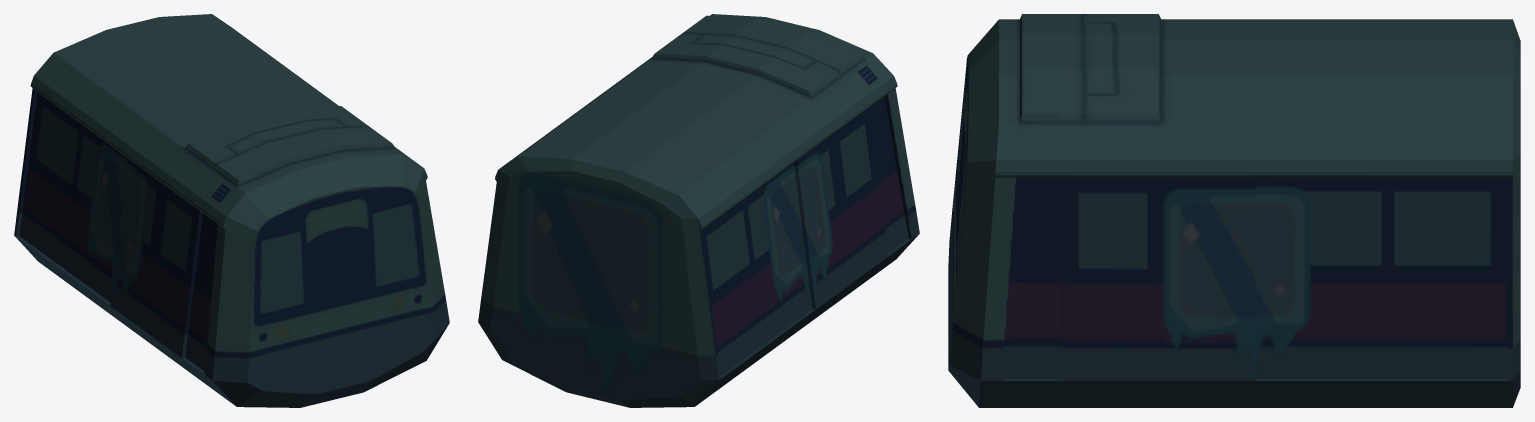
The model's file is MovingPlatformMRT_FreezeUnHovered.fbx.
The picture shows the model from 3 angles, left to right: view 1: azimuth 30°, elevation 25°; view 2: azimuth 150°, elevation 25°; view 3: azimuth 270°, elevation 25°; orthographic projection. The views are drawn at different scales.
Visible parts, largest first — view 1: Cube.016; view 2: Cube.016; view 3: Cube.016.
Part boxes in pixels (x1,y1,x2,y2): Cube.016: [14, 14, 449, 407]; Cube.016: [478, 14, 919, 407]; Cube.016: [948, 14, 1520, 407].
Bounding box in the file's own units: 276 × 263 × 430.
